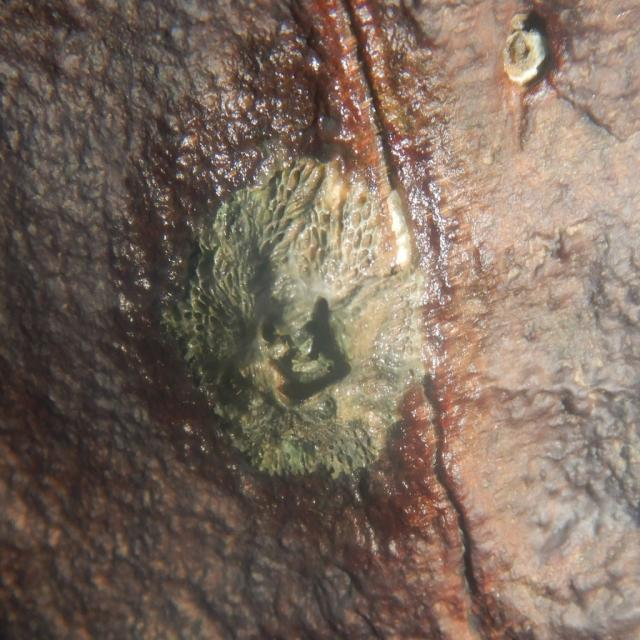barnacles: (169, 143, 426, 494)
